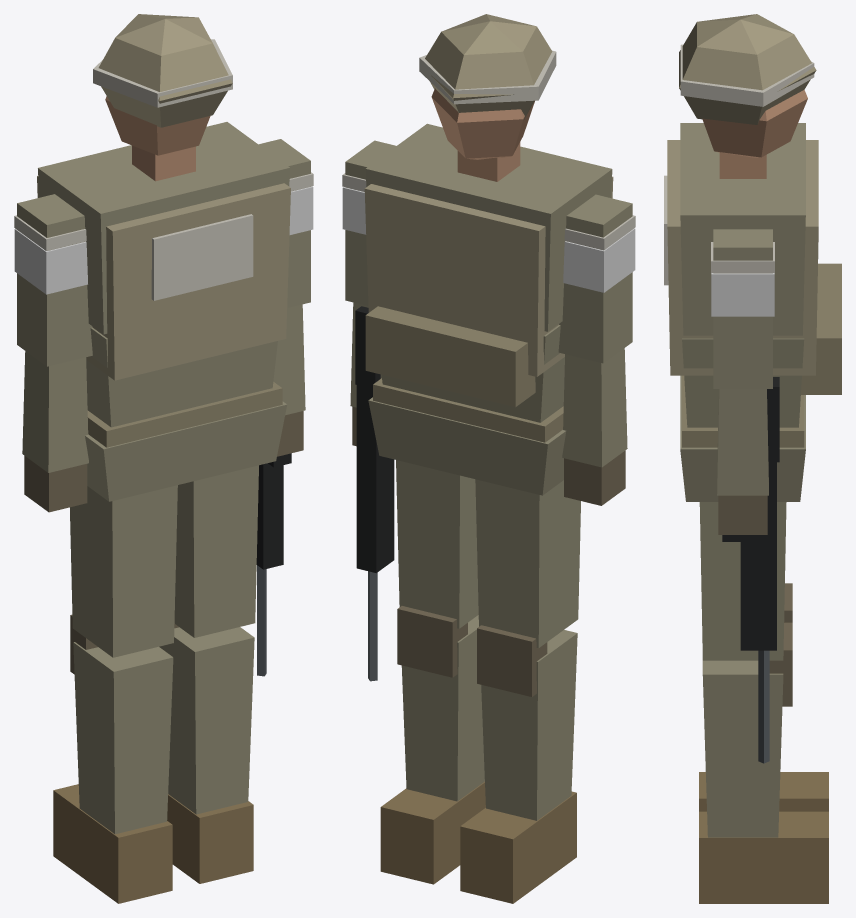
File: soldier_mod_rifle_lod1.glb
3 views of the same model, side by side, from view 1: azimuth 30°, elevation 25°; view 2: azimuth 150°, elevation 25°; view 3: azimuth 270°, elevation 25° (orthographic). The views are drawn at different scales.
Parts seen in each view (by area): view 1: mod_rifle_lod1_static; view 2: mod_rifle_lod1_static; view 3: mod_rifle_lod1_static.
Boxes of the visible parts, x1=… form: mod_rifle_lod1_static: x1=14, y1=14, x2=313, y2=903; mod_rifle_lod1_static: x1=342, y1=14, x2=635, y2=903; mod_rifle_lod1_static: x1=664, y1=14, x2=841, y2=903.
Bounding box in the file's own units: 0.593 × 1.81 × 0.342.
